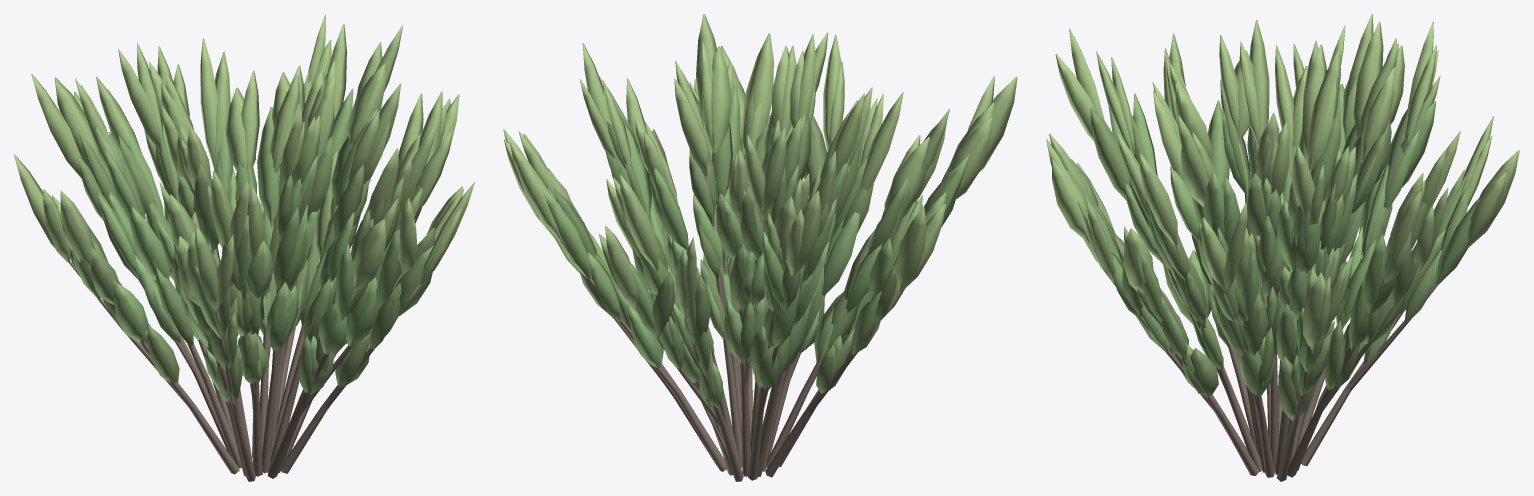
File: chirca_bush_1.glb
3 views of the same model, side by side, from view 1: azimuth 30°, elevation 25°; view 2: azimuth 150°, elevation 25°; view 3: azimuth 270°, elevation 25° (orthographic).
Parts seen in each view (by area): view 1: ChircaFoliageTip, ChircaFoliageMid, ChircaFoliageDeep, ChircaStems; view 2: ChircaFoliageTip, ChircaFoliageMid, ChircaFoliageDeep, ChircaStems; view 3: ChircaFoliageTip, ChircaFoliageMid, ChircaFoliageDeep, ChircaStems.
Boxes of the visible parts, box(x1,y1,x2,y2) form: ChircaFoliageTip: box(14, 14, 474, 311); ChircaFoliageMid: box(72, 68, 433, 404); ChircaFoliageDeep: box(70, 108, 443, 405); ChircaStems: box(68, 152, 420, 481); ChircaFoliageTip: box(503, 14, 1017, 318); ChircaFoliageMid: box(541, 79, 969, 408); ChircaFoliageDeep: box(547, 115, 961, 406); ChircaStems: box(561, 163, 899, 481); ChircaFoliageTip: box(1046, 14, 1519, 350); ChircaFoliageMid: box(1077, 84, 1480, 418); ChircaFoliageDeep: box(1077, 79, 1469, 421); ChircaStems: box(1089, 137, 1438, 481).
Size of the model in its own units: 2.13 by 1.89 by 2.01.
